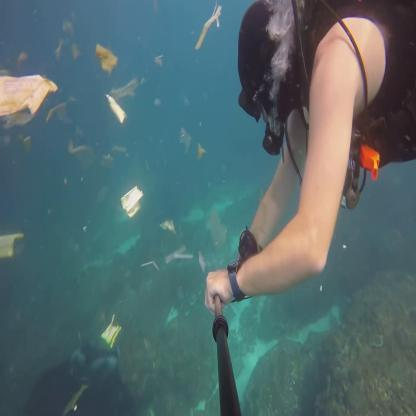Rác: (1, 73, 56, 128), (50, 18, 88, 69), (195, 0, 228, 52), (64, 135, 104, 165), (205, 206, 230, 249), (97, 312, 124, 348), (103, 91, 129, 127), (117, 184, 149, 212), (164, 244, 197, 267), (176, 126, 195, 162), (1, 233, 26, 258), (96, 39, 120, 64), (192, 136, 214, 162), (139, 257, 159, 278), (157, 219, 178, 235), (152, 49, 166, 70)
